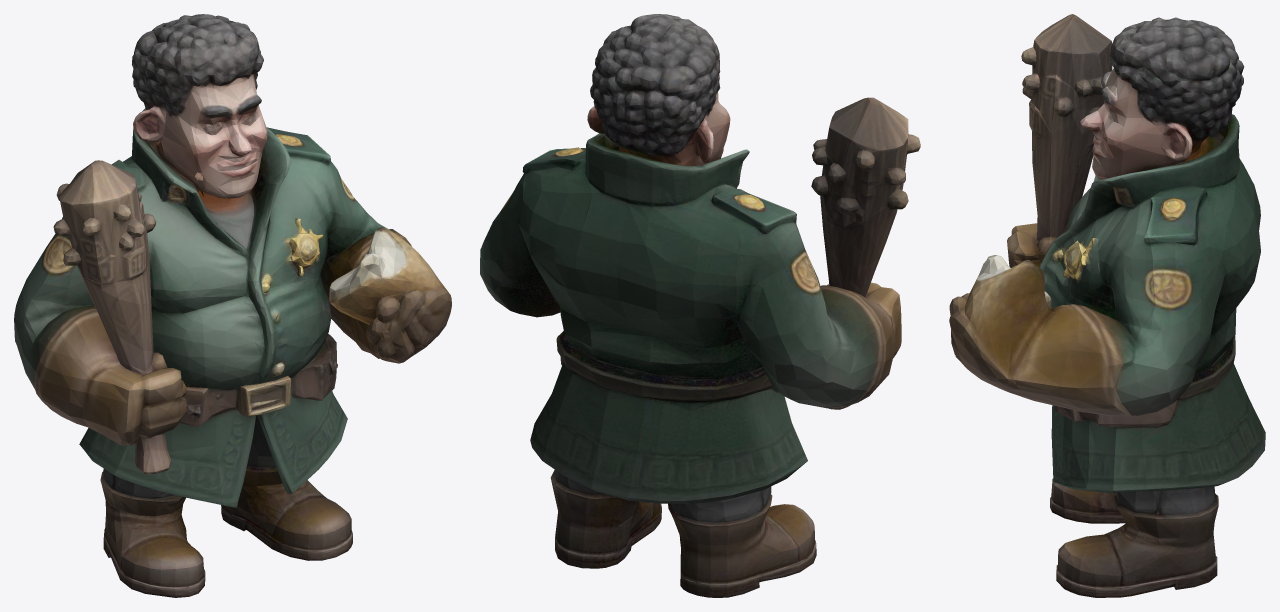
The model's file is dorrinHale.glb.
The picture shows the model from 3 angles, left to right: view 1: azimuth 30°, elevation 25°; view 2: azimuth 150°, elevation 25°; view 3: azimuth 270°, elevation 25°; orthographic projection. The views are drawn at different scales.
Parts seen in each view (by area): view 1: world; view 2: world; view 3: world.
Boxes of the visible parts, left/top/right/bottom form: world: left=14, top=14, right=451, bottom=597; world: left=480, top=14, right=920, bottom=597; world: left=949, top=14, right=1265, bottom=597.
Size of the model in its own units: 0.7626 by 0.9996 by 0.5521.
1 material, 1 textured.
